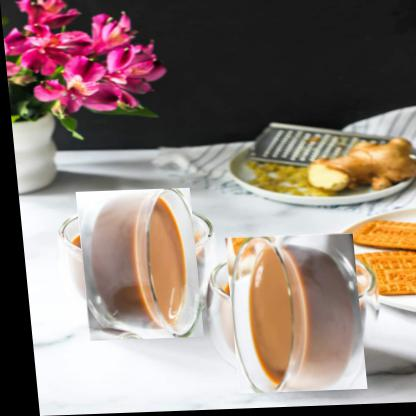milk_based_beverage: (213, 242, 367, 389), (64, 198, 206, 334)
